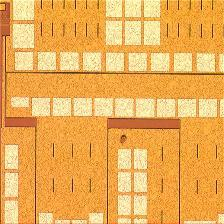PARTICLE: (116, 132, 132, 148)
